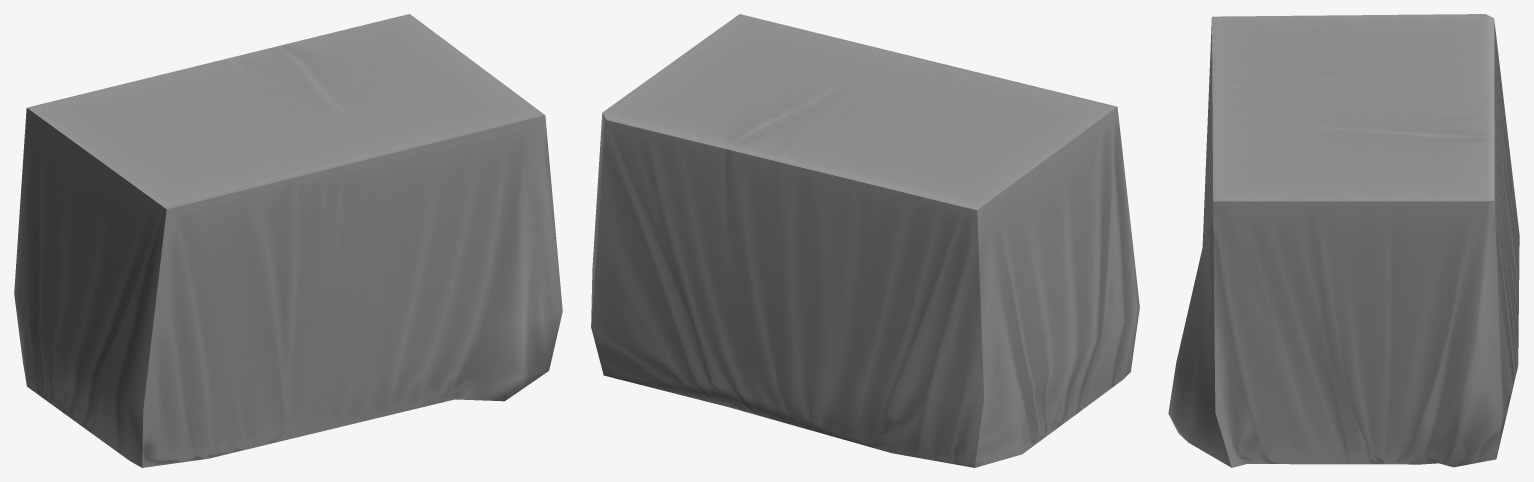
The model's file is Pfb_Box_GRP__17.fbx.
3 views of the same model, side by side, from view 1: azimuth 30°, elevation 25°; view 2: azimuth 150°, elevation 25°; view 3: azimuth 270°, elevation 25° (orthographic).
Visible parts, largest first — view 1: MAT_Canvas_02_Smooth 1; view 2: MAT_Canvas_02_Smooth 1; view 3: MAT_Canvas_02_Smooth 1.
Part boxes in pixels (x1,y1,x2,y2): MAT_Canvas_02_Smooth 1: (14, 14, 562, 467); MAT_Canvas_02_Smooth 1: (591, 14, 1139, 467); MAT_Canvas_02_Smooth 1: (1168, 14, 1519, 467).
Size of the model in its own units: 2.65 by 1.54 by 1.88.
Materials: 1 (1 with a texture image).
